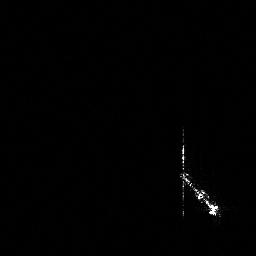ship: (177, 168, 225, 219)
